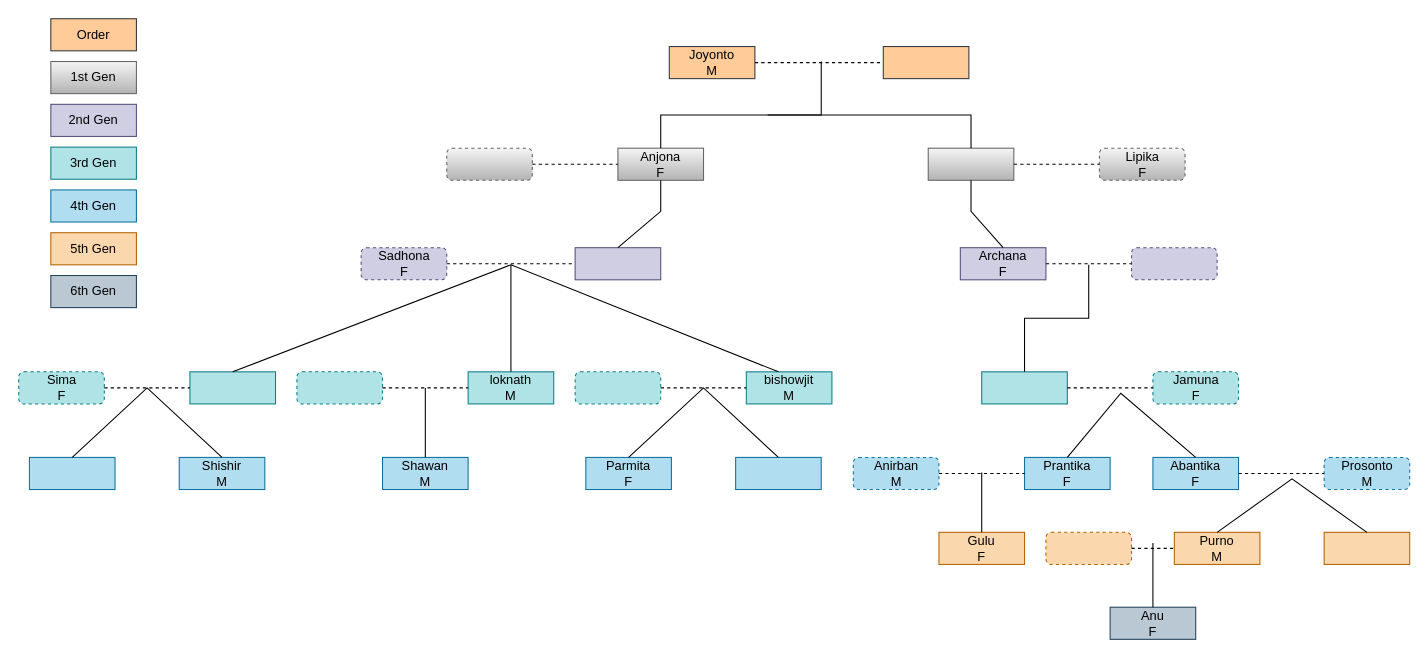
The diagram is 1428 pixels wide and 658 high, and some of its shapes have lost their labels. The centre of each missing label's shape, as x and y in pixels:
Atindro M: point (1024, 387)
Haripodo M: point (489, 163)
Jaba F: point (339, 387)
Joti F: point (925, 62)
Motilal M: point (1173, 263)
Oboni M: point (617, 263)
Pihu F: point (1088, 547)
Pritu F: point (1366, 547)
Protoy M: point (778, 473)
Sajal M: point (970, 163)
Shyma F: point (71, 473)
Sibu M: point (232, 387)
Tora F: point (617, 387)
